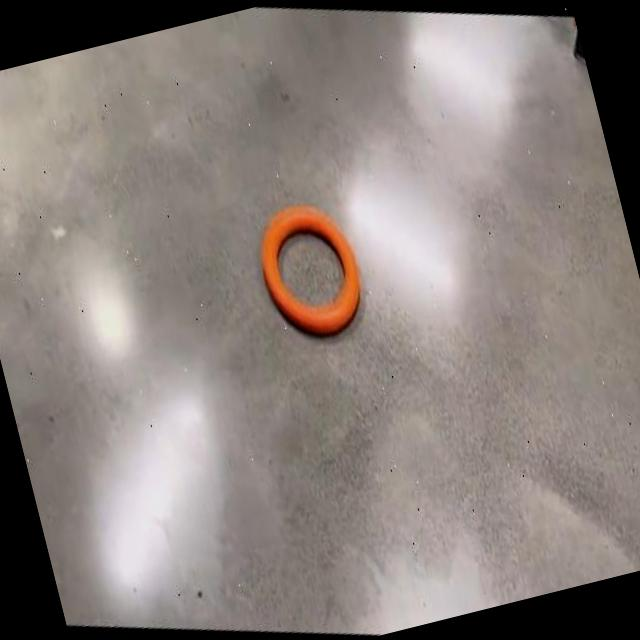note: (240, 180, 380, 359)
